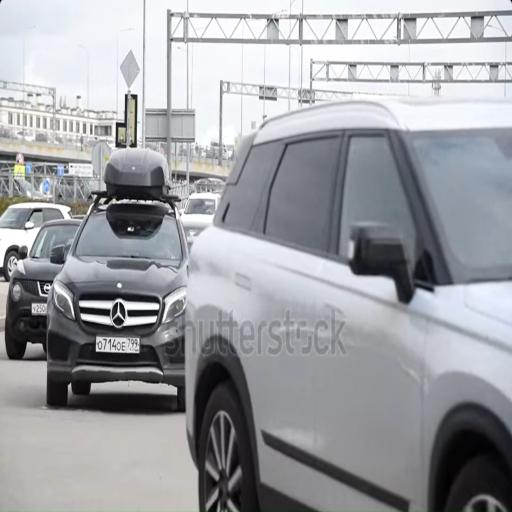License plates: (96, 336, 139, 353), (32, 303, 46, 315)
